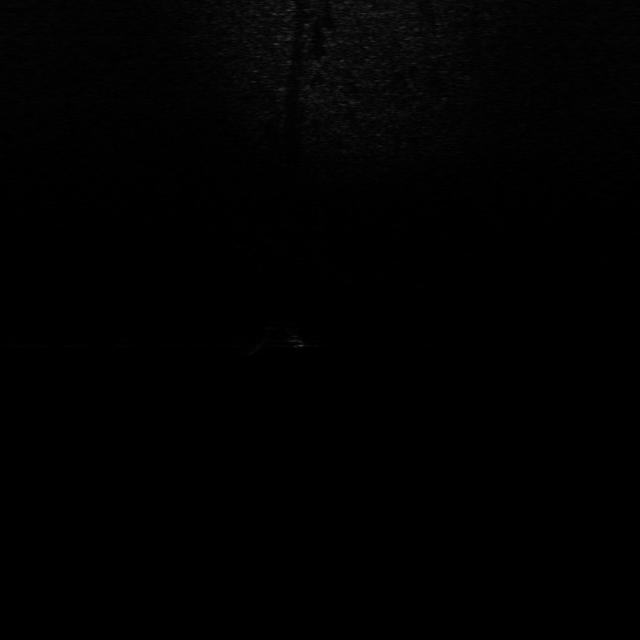human body: (247, 320, 312, 355)
